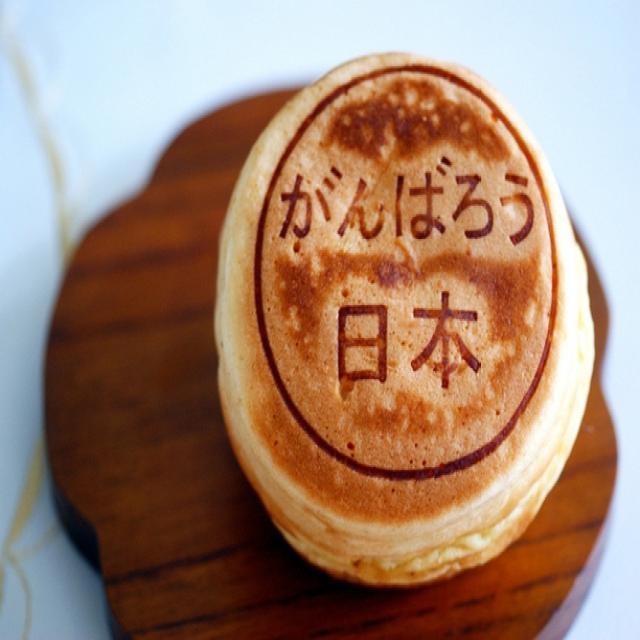蛋糕甜品: (35, 55, 614, 634)
